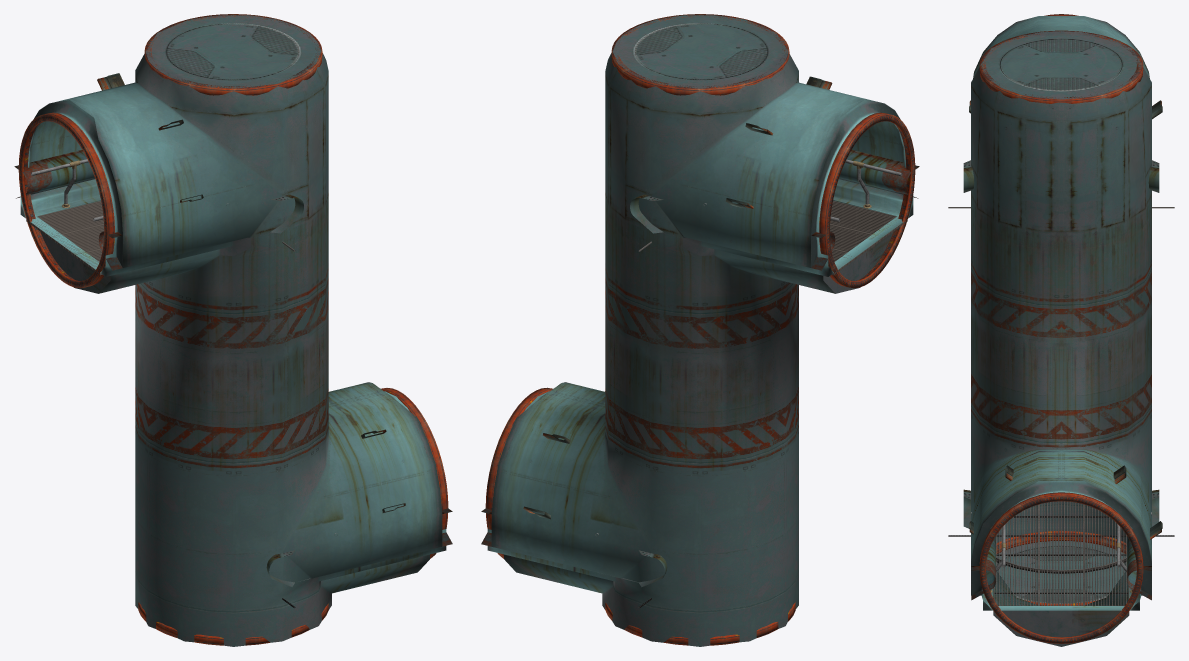
Rendered from tau_tunnel_ladder.dae.
The picture shows the model from 3 angles, left to right: view 1: azimuth 30°, elevation 25°; view 2: azimuth 150°, elevation 25°; view 3: azimuth 270°, elevation 25°; orthographic projection. The views are drawn at different scales.
Visible parts, largest first — view 1: polySurface390, pPipe51, polySurface389, polySurface129, pPipe52, pPipe50, pPipe53; view 2: polySurface390, pPipe51, polySurface389, polySurface129, pPipe52, pPipe50, pPipe53; view 3: polySurface390, pPipe50, polySurface128, polySurface93, pPipe52, polySurface388, polySurface97, polySurface96, pPipe53, polySurface389.
Boxes of the visible parts, x1,y1,x2,y2 form: polySurface390: (20, 15, 446, 646); pPipe51: (18, 112, 114, 288); polySurface389: (14, 150, 303, 270); polySurface129: (26, 201, 104, 275); pPipe52: (144, 14, 322, 95); pPipe50: (381, 388, 448, 558); pPipe53: (138, 602, 328, 645); polySurface390: (487, 15, 913, 646); pPipe51: (819, 112, 915, 288); polySurface389: (630, 150, 919, 270); polySurface129: (830, 201, 907, 275); pPipe52: (611, 14, 789, 95); pPipe50: (485, 387, 552, 558); pPipe53: (605, 602, 795, 645); polySurface390: (971, 16, 1151, 646); pPipe50: (979, 492, 1143, 643); polySurface128: (993, 559, 1129, 605); polySurface93: (1039, 501, 1083, 570); pPipe52: (979, 30, 1143, 103); polySurface388: (963, 489, 1159, 600); polySurface97: (1084, 504, 1174, 568); polySurface96: (948, 504, 1038, 568); pPipe53: (996, 530, 1126, 605); polySurface389: (963, 160, 1159, 192).
Bounding box in the file's own units: 8 × 12.43 × 5.
